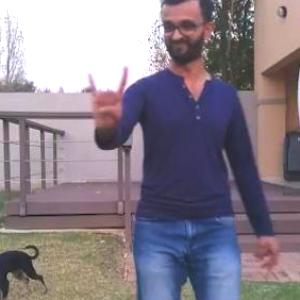takeoff-hand: (81, 60, 131, 133)
